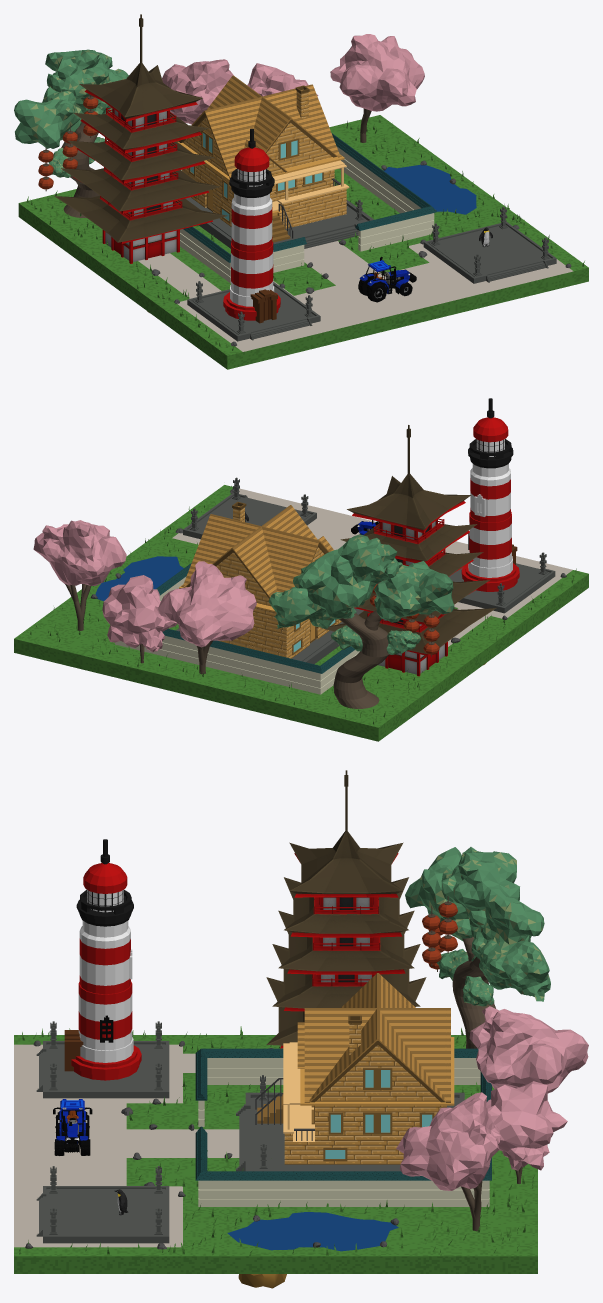
The picture shows the model from 3 angles, top to bottom: view 1: azimuth 30°, elevation 25°; view 2: azimuth 150°, elevation 25°; view 3: azimuth 270°, elevation 25°; orthographic projection. The views are drawn at different scales.
Visible parts, largest first — view 1: Cube.005, Cube.508, OBJRANDOM_LIGHTHOUSE, VEHICLES_TRACTOR; view 2: Cube.005, Cube.508, OBJRANDOM_LIGHTHOUSE; view 3: Cube.005, Cube.508, OBJRANDOM_LIGHTHOUSE, VEHICLES_TRACTOR.
Boxes of the visible parts, left/top/right/bottom form: Cube.005: left=14, top=14, right=588, bottom=369; Cube.508: left=176, top=75, right=349, bottom=242; OBJRANDOM_LIGHTHOUSE: left=223, top=128, right=280, bottom=323; VEHICLES_TRACTOR: left=358, top=256, right=416, bottom=302; Cube.005: left=14, top=425, right=588, bottom=741; Cube.508: left=179, top=501, right=341, bottom=658; OBJRANDOM_LIGHTHOUSE: left=461, top=398, right=519, bottom=591; Cube.005: left=14, top=770, right=588, bottom=1273; Cube.508: left=255, top=973, right=454, bottom=1164; OBJRANDOM_LIGHTHOUSE: left=64, top=839, right=141, bottom=1080; VEHICLES_TRACTOR: left=53, top=1099, right=92, bottom=1155.
Bounding box in the file's own units: 4528 × 2803 × 4389.
Materials: 42 (6 with a texture image).
